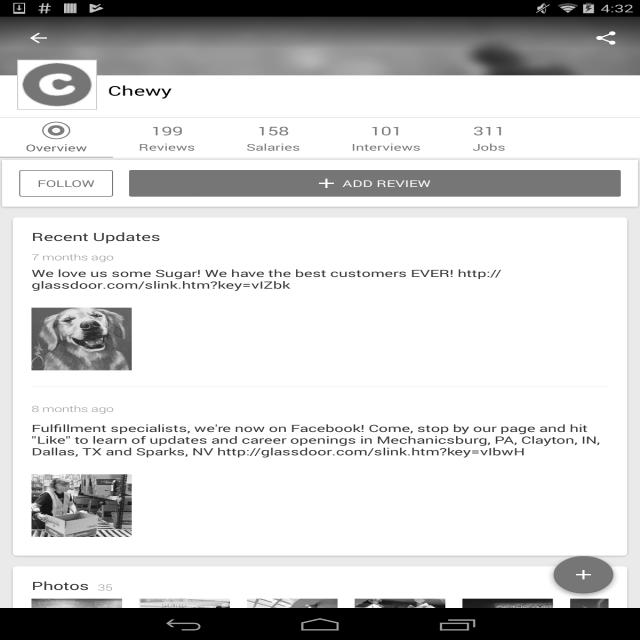CheckedTextView: (19, 170, 113, 197)
ImageButton: (544, 552, 623, 601), (9, 17, 68, 59)
ImageView: (0, 16, 640, 80), (31, 474, 132, 537), (31, 308, 132, 370), (17, 59, 97, 110), (31, 598, 122, 640), (354, 598, 445, 640), (139, 598, 229, 640), (247, 598, 337, 640), (462, 598, 552, 640), (570, 598, 640, 640), (42, 122, 71, 139), (596, 578, 608, 592)
TextView: (31, 422, 608, 458), (31, 266, 608, 292), (97, 82, 640, 100), (143, 474, 608, 490), (143, 308, 608, 323), (143, 326, 608, 338), (143, 493, 608, 505), (31, 229, 160, 244), (580, 22, 632, 54), (319, 177, 431, 190), (32, 251, 114, 263), (32, 402, 114, 414), (86, 30, 142, 46), (32, 578, 89, 593), (352, 141, 422, 153), (26, 141, 88, 154), (139, 141, 195, 153), (247, 141, 300, 153), (151, 122, 183, 139), (257, 122, 289, 139), (370, 122, 402, 139), (473, 122, 505, 139), (472, 141, 506, 153), (98, 582, 112, 594)
